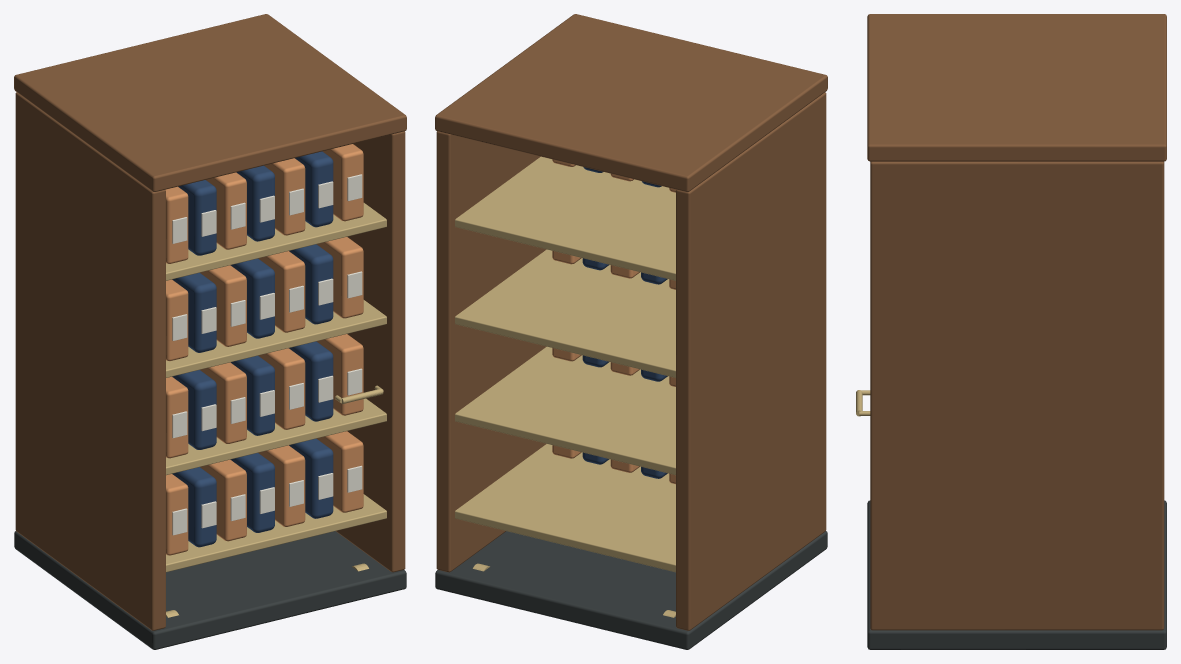
File: city-courthouse-and-records-office-city-courthouse-and-9b2b2ded__30988.glb
3 renders of one model, left to right at view 1: azimuth 30°, elevation 25°; view 2: azimuth 150°, elevation 25°; view 3: azimuth 270°, elevation 25°, orthographic. The views are drawn at different scales.
Visible parts, largest first — view 1: city-courthouse-and-records-office-mobile-archive-shelf; view 2: city-courthouse-and-records-office-mobile-archive-shelf; view 3: city-courthouse-and-records-office-mobile-archive-shelf.
Part boxes in pixels (x1,y1,x2,y2): city-courthouse-and-records-office-mobile-archive-shelf: [14, 14, 406, 649]; city-courthouse-and-records-office-mobile-archive-shelf: [435, 14, 827, 649]; city-courthouse-and-records-office-mobile-archive-shelf: [856, 14, 1166, 649].
Bounding box in the file's own units: 1.15 × 2.05 × 1.14.
